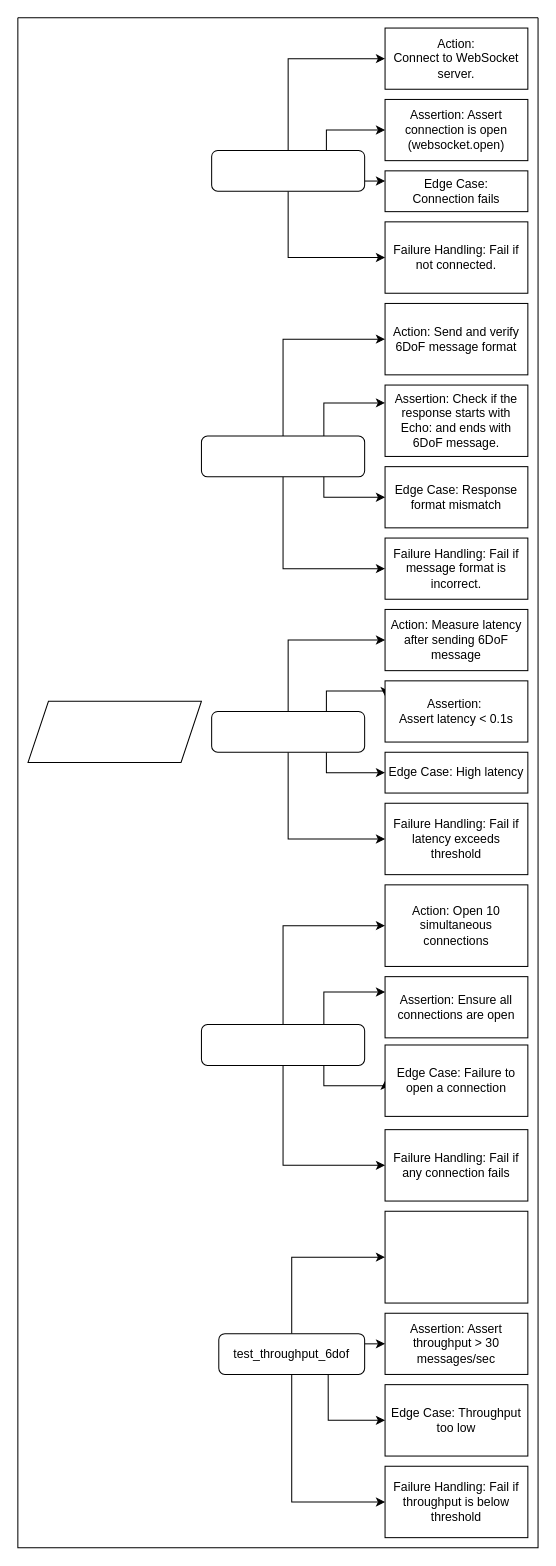
Some shapes in this 556 by 1566 pixel diagram are drawn without their labels. Here are the shapes that lost their labels. From the top down, the box of each, then its label:
(211, 149, 365, 191): test_basic_connection
(200, 435, 365, 477): test_message_format_6dof
(27, 700, 201, 762): TestServer
(211, 710, 365, 752): test_latency_6dof
(200, 1024, 365, 1065): test_multiple_connections
(384, 1210, 528, 1303): Action: Send and receive 100 6DoF messages, calculate throughput
